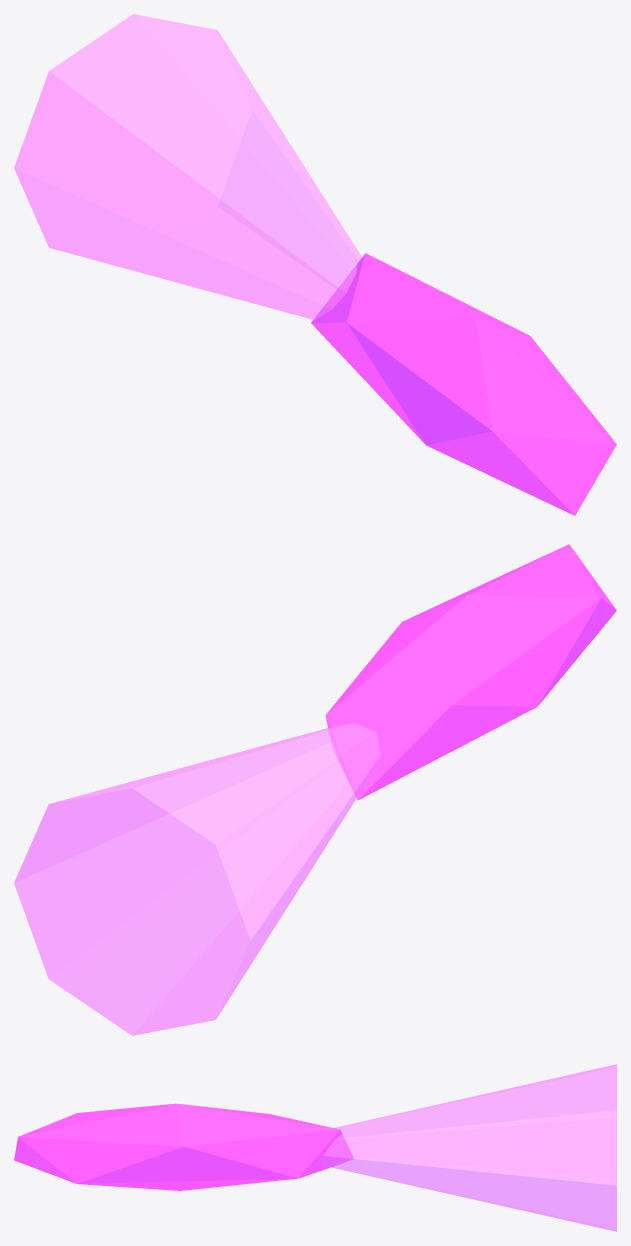
Rendered from hex-bolt.glb.
3 renders of one model, top to bottom at view 1: azimuth 30°, elevation 25°; view 2: azimuth 150°, elevation 25°; view 3: azimuth 270°, elevation 25°, orthographic. The views are drawn at different scales.
Visible parts, largest first — view 1: hex-bolt; view 2: hex-bolt; view 3: hex-bolt.
Boxes of the visible parts, <box> form: hex-bolt: <box>14,14,616,515</box>; hex-bolt: <box>14,544,616,1035</box>; hex-bolt: <box>14,1064,616,1231</box>.
Size of the model in its own units: 0.12 by 0.12 by 0.4053.
